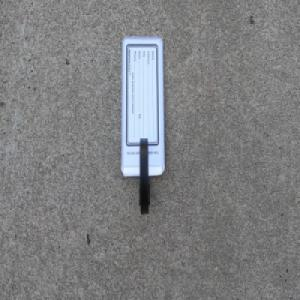LuggageTag: (119, 34, 166, 218)
